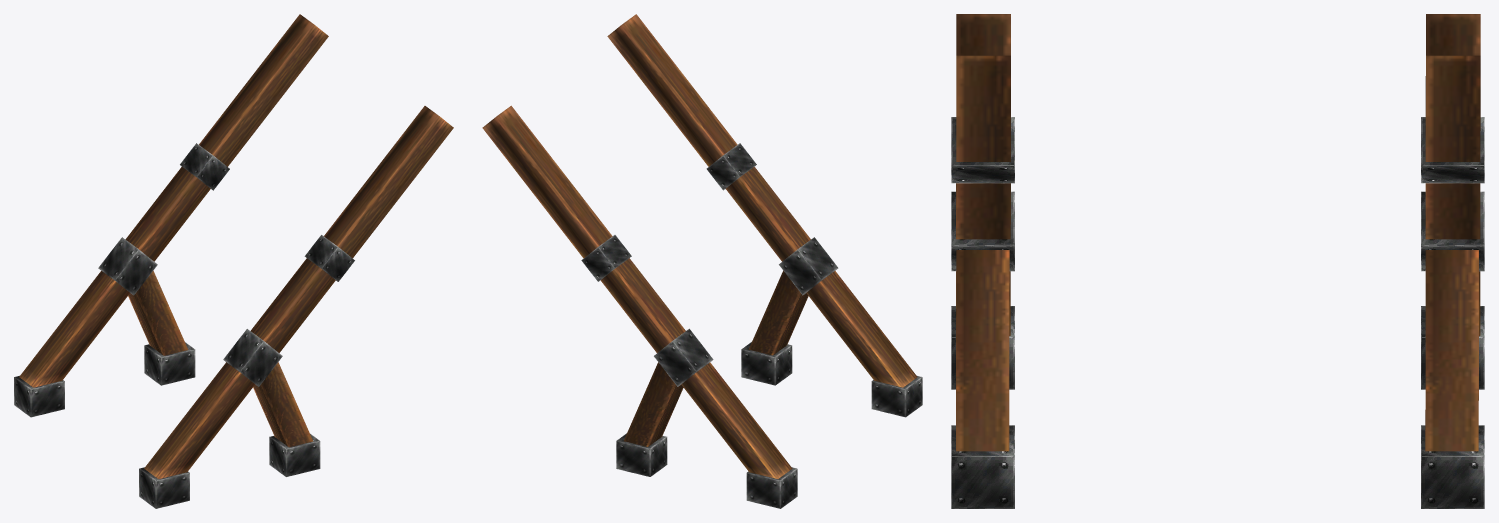
Rendered from INST_SWORDLIGHT_WATERWHLMOUNT.fbx.
The picture shows the model from 3 angles, left to right: view 1: azimuth 30°, elevation 25°; view 2: azimuth 150°, elevation 25°; view 3: azimuth 270°, elevation 25°; orthographic projection. The views are drawn at different scales.
Parts seen in each view (by area): view 1: INST_SWORDLIGHT_WATERWHLMOUNT; view 2: INST_SWORDLIGHT_WATERWHLMOUNT; view 3: INST_SWORDLIGHT_WATERWHLMOUNT.
Boxes of the visible parts, box(x1,y1,x2,y2) form: INST_SWORDLIGHT_WATERWHLMOUNT: box(14, 14, 453, 508); INST_SWORDLIGHT_WATERWHLMOUNT: box(482, 14, 922, 508); INST_SWORDLIGHT_WATERWHLMOUNT: box(951, 14, 1484, 508).
Size of the model in its own units: 110520 by 113725 by 90752.
2 materials, 2 textured.
